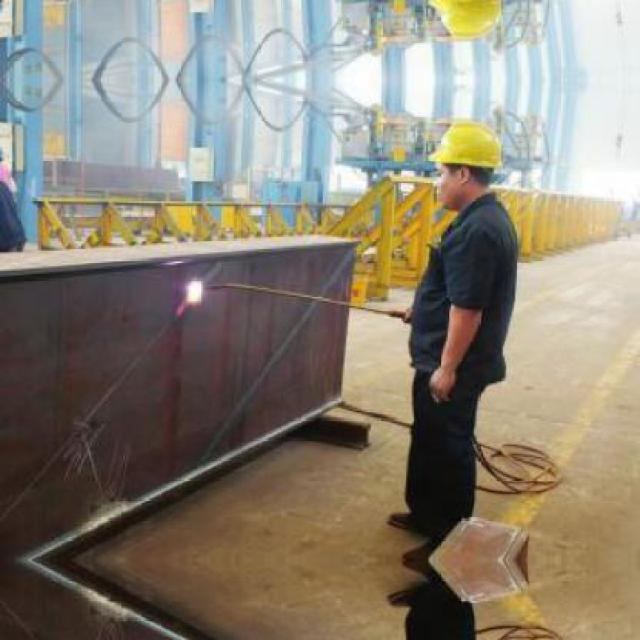helmet: (423, 110, 509, 207), (423, 0, 511, 48)
